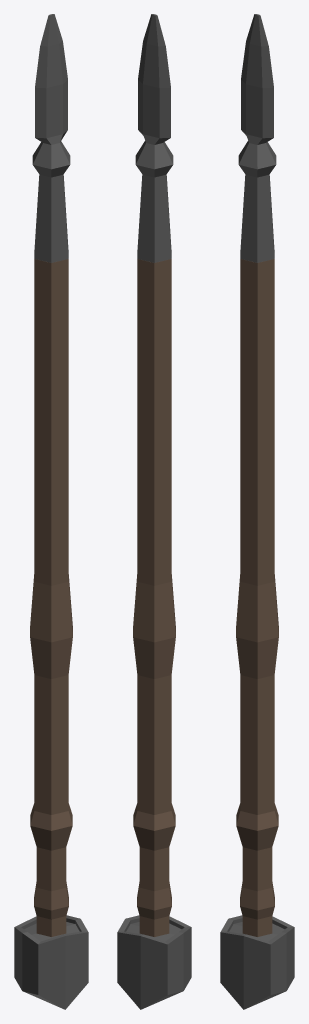
Rendered from Lance.fbx.
The picture shows the model from 3 angles, left to right: view 1: azimuth 30°, elevation 25°; view 2: azimuth 150°, elevation 25°; view 3: azimuth 330°, elevation 25°; orthographic projection.
Parts seen in each view (by area): view 1: polySurface1; view 2: polySurface1; view 3: polySurface1.
Part boxes in pixels (x1,y1,x2,y2): polySurface1: (14,14,88,1009); polySurface1: (117,14,191,1009); polySurface1: (220,14,294,1009).
Size of the model in its own units: 1.08 by 17.34 by 0.8864.
